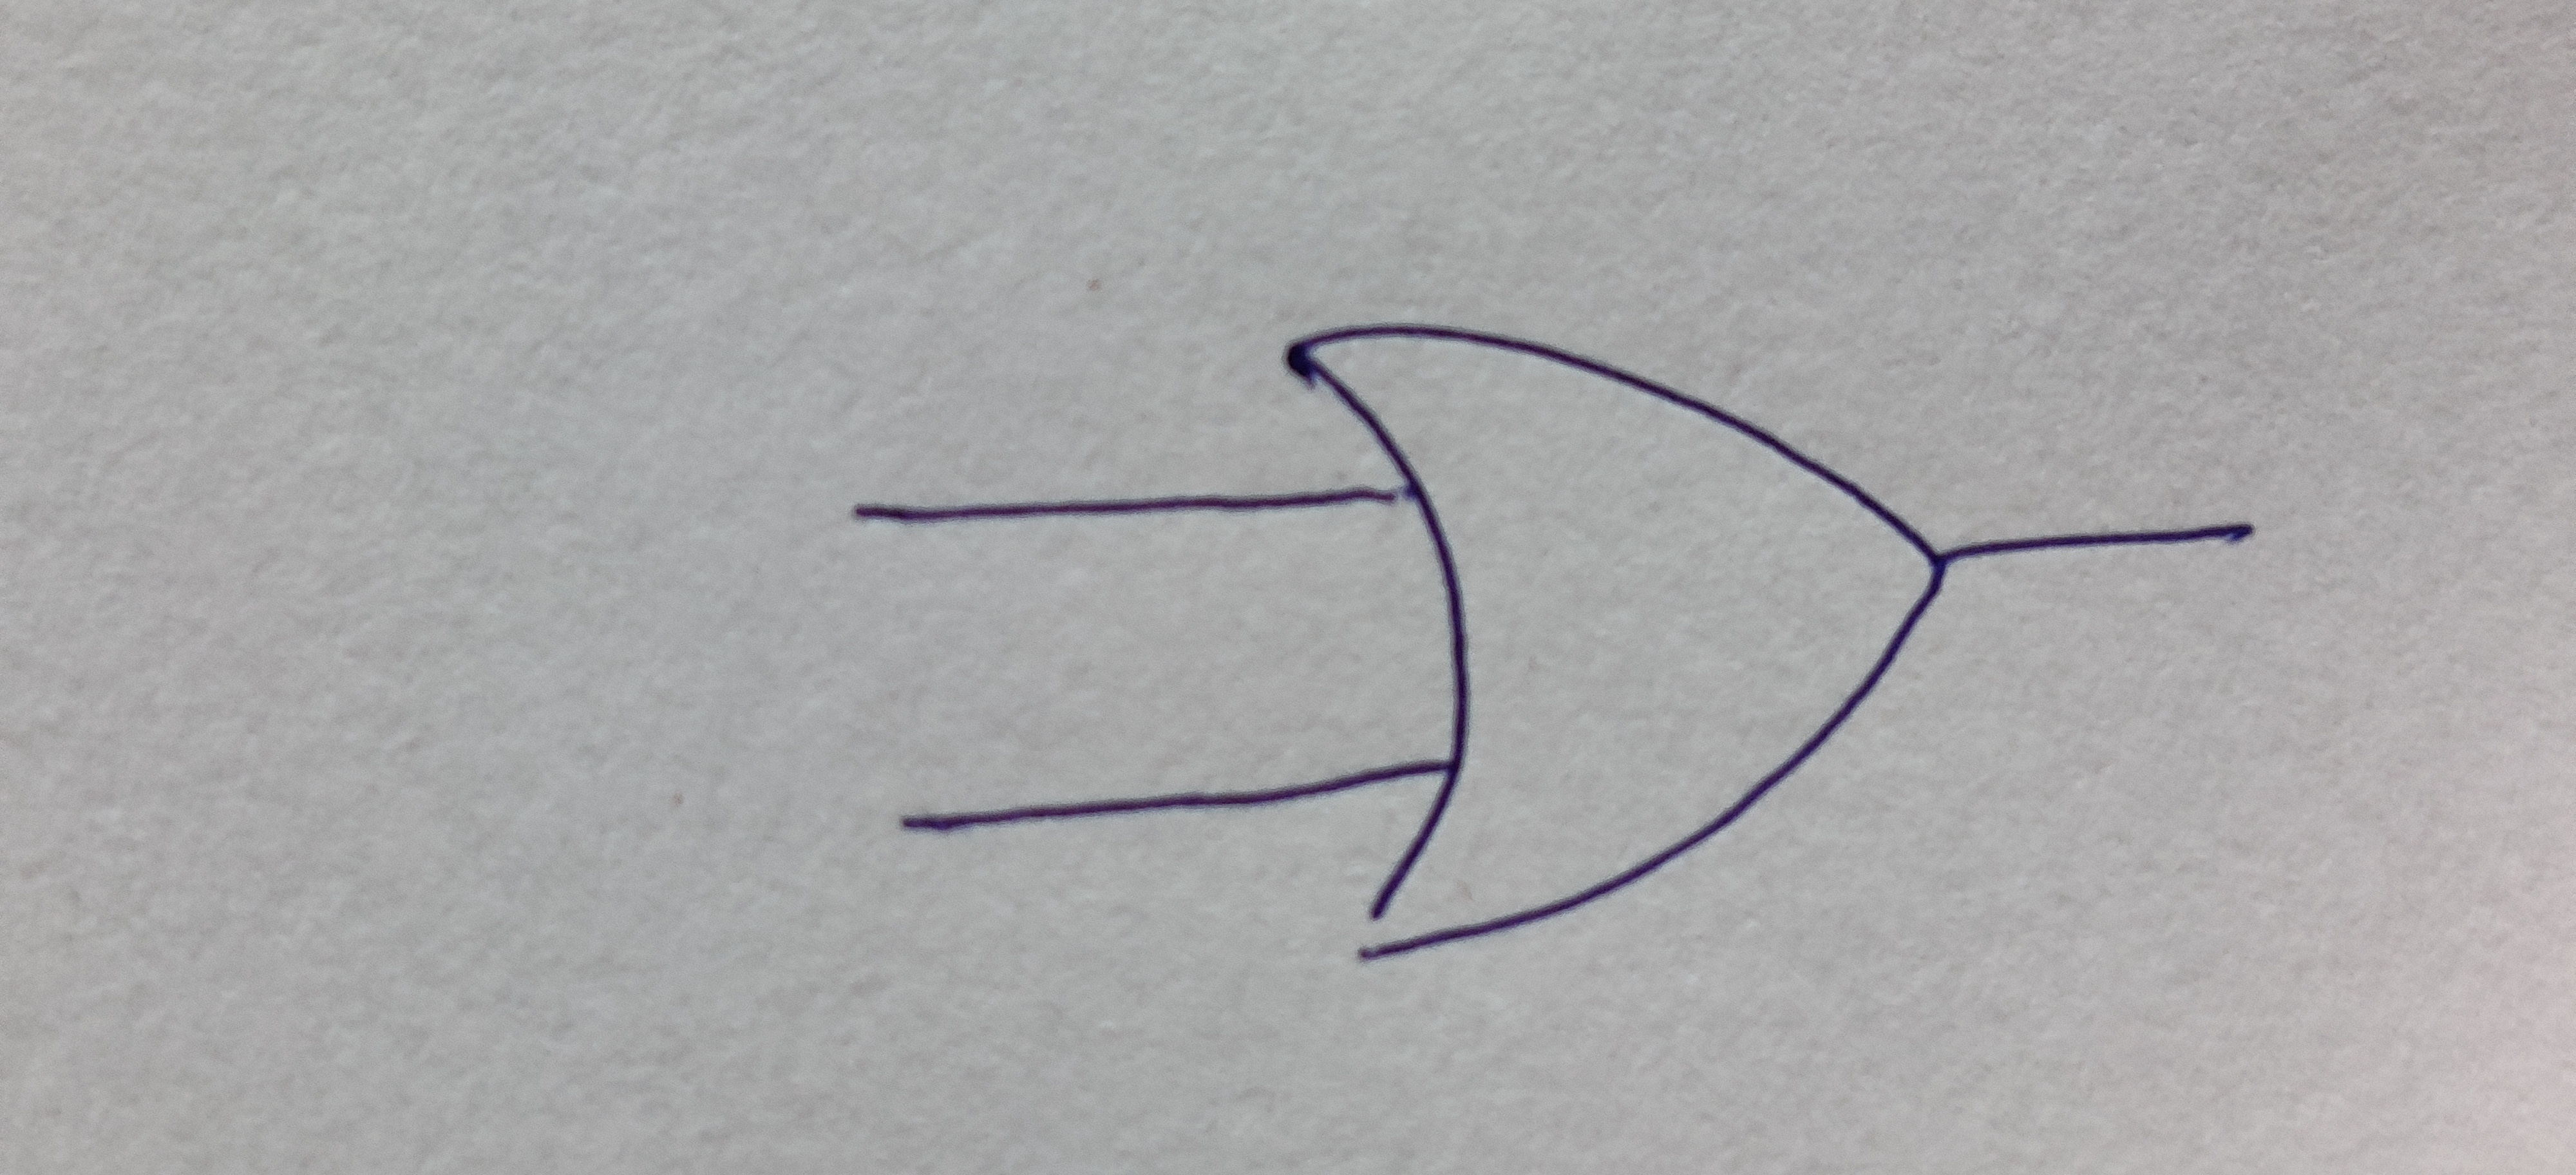or: (1290, 329, 1947, 963)
